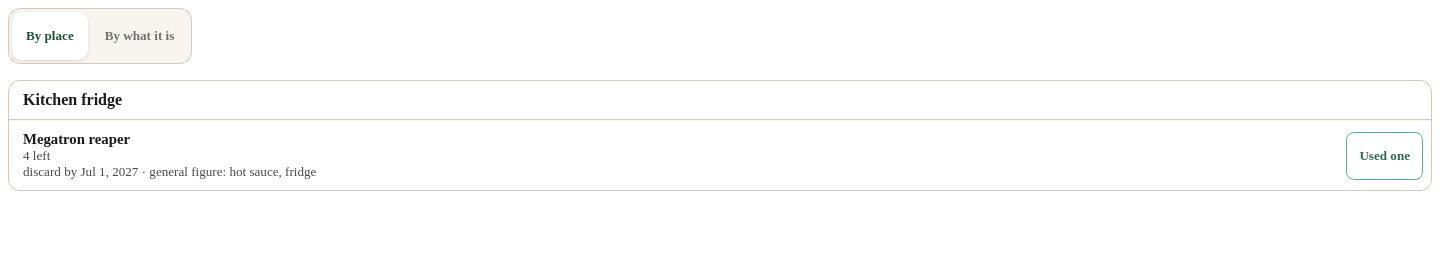
the row's Used one / Used it up — one key per intent › Used one fails, tap again: the same key
Click the button with test id "pantry-row-action-put_up:jar-1" at (1385, 156), box 1346,132 -> 1423,180
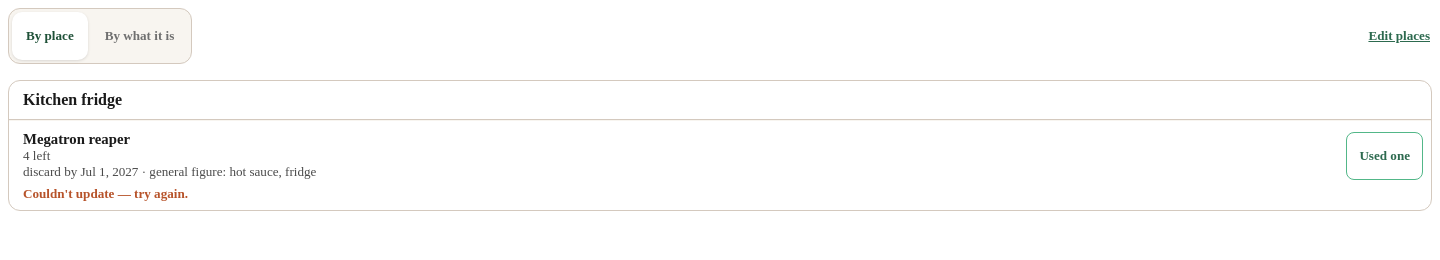
Expected: the message "Couldn't update — try again." is shown, 23,186 -> 188,201
Click the button with test id "pantry-row-action-put_up:jar-1" at (1385, 156), box 1346,132 -> 1423,180
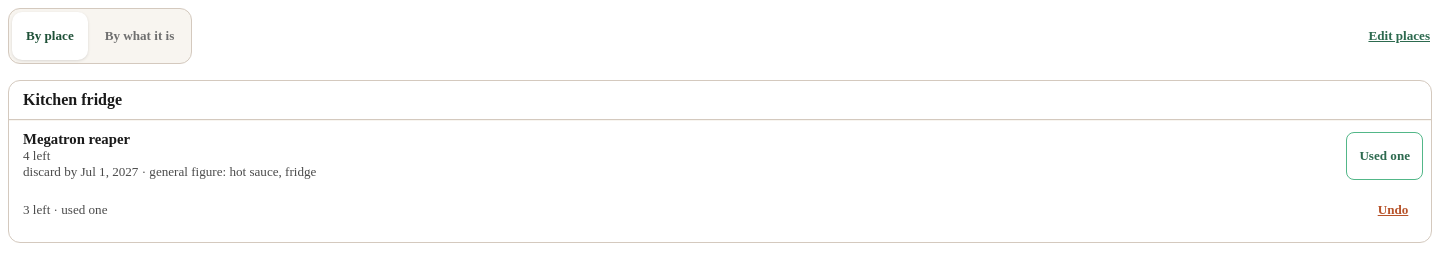
Expected: the message "3 left · used one Undo" is shown, 17,186 -> 1423,238
